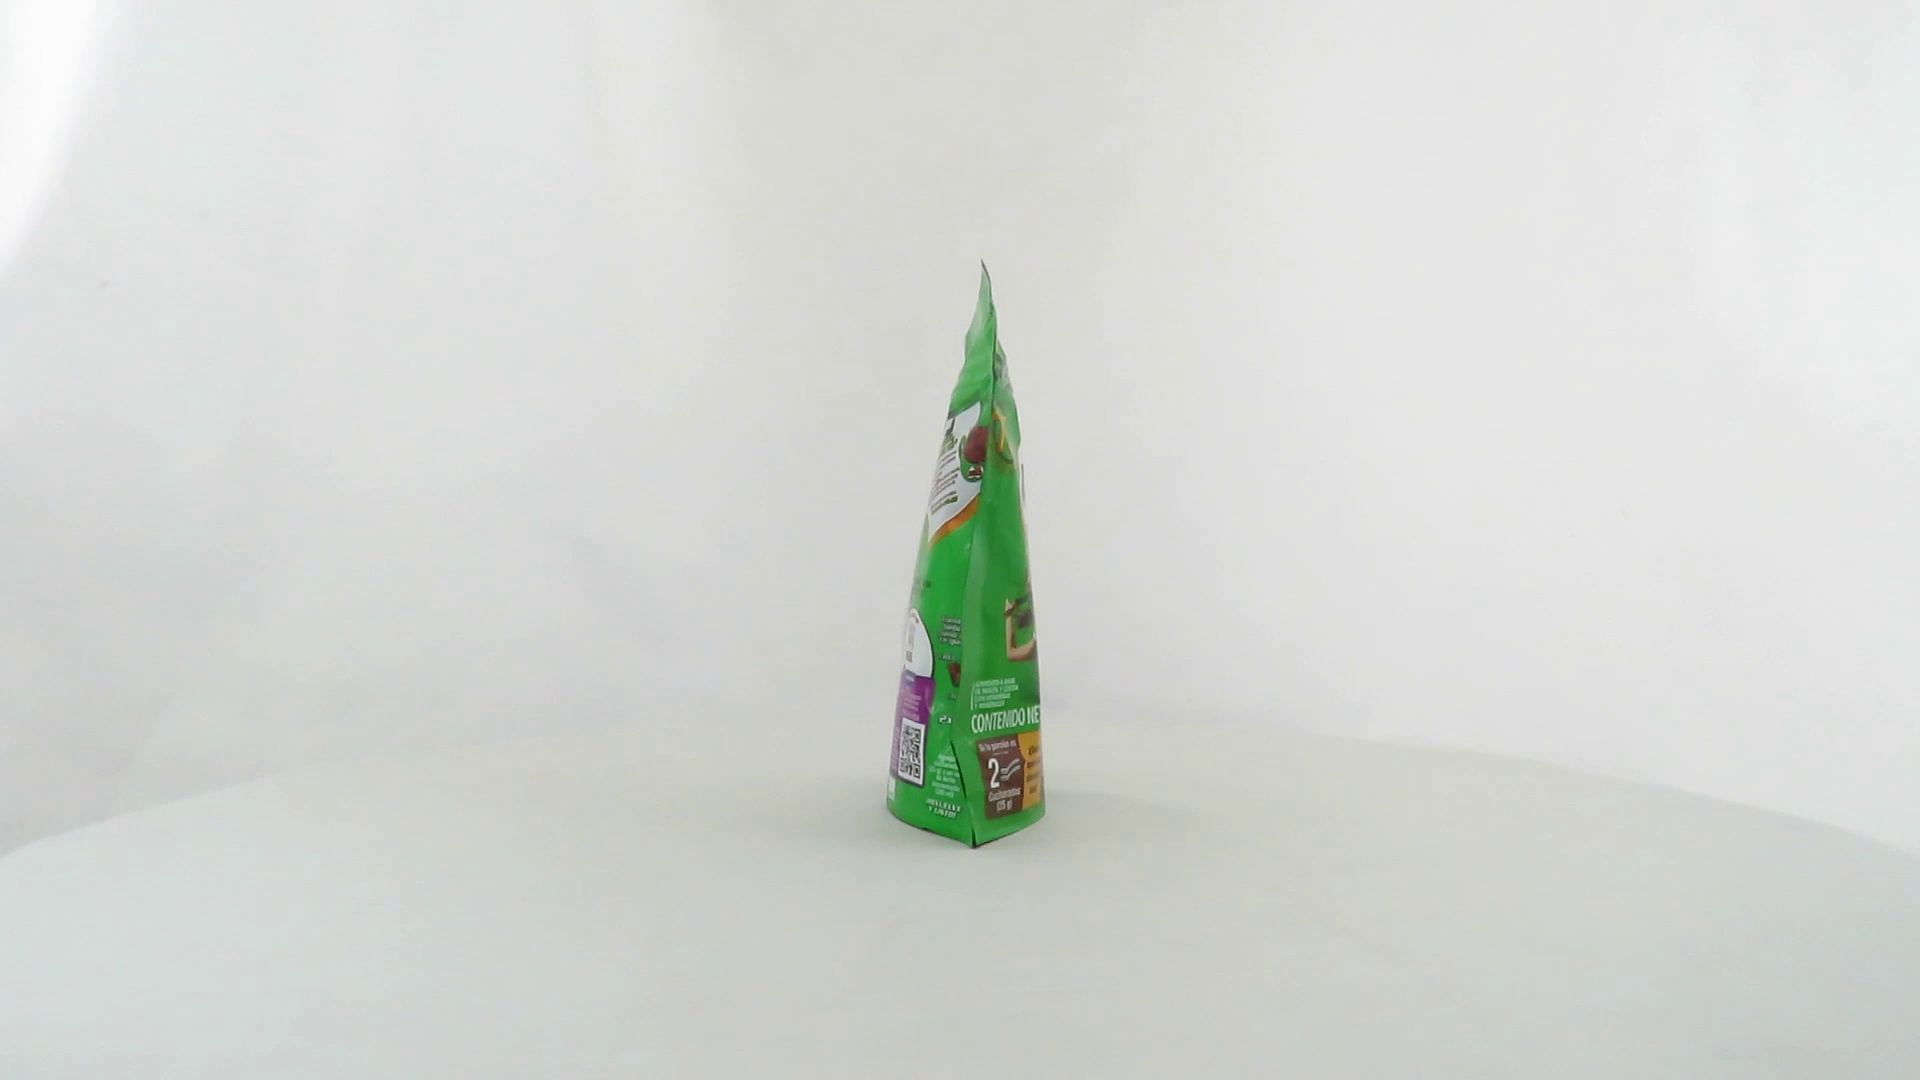COL0170203DYP10000: (881, 255, 1052, 856)
